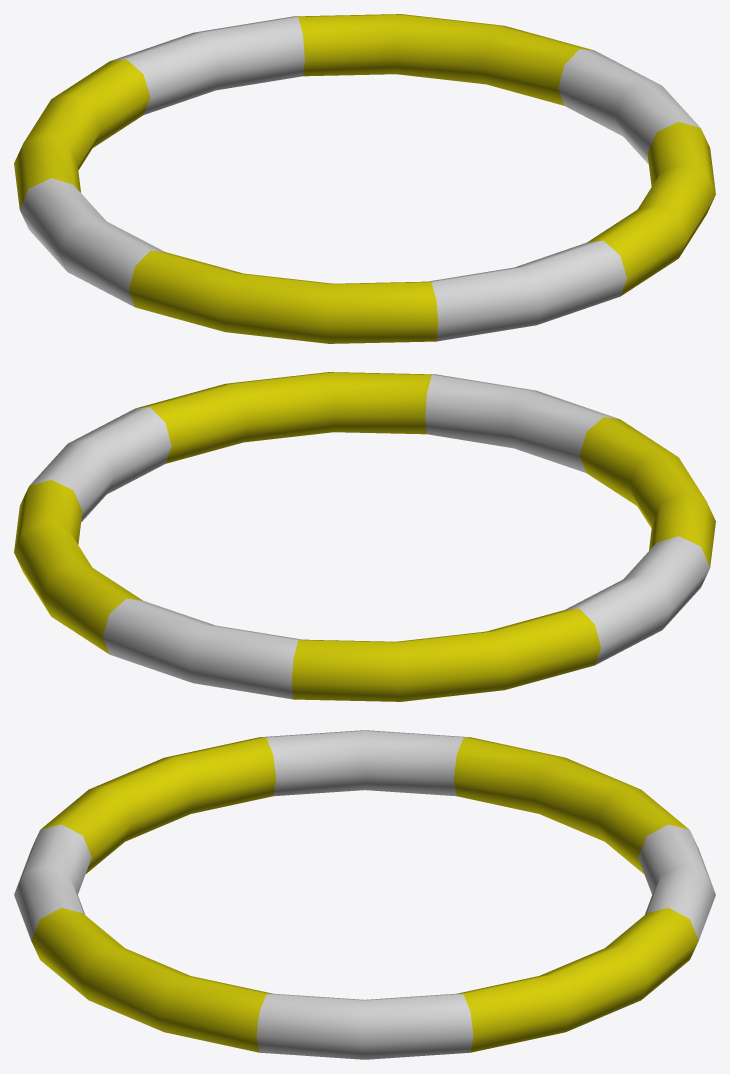
Rendered from yellowring.fbx.
The picture shows the model from 3 angles, top to bottom: view 1: azimuth 30°, elevation 25°; view 2: azimuth 150°, elevation 25°; view 3: azimuth 270°, elevation 25°; orthographic projection.
Parts seen in each view (by area): view 1: ring3; view 2: ring3; view 3: ring3.
Part boxes in pixels (bbox=[...]): ring3: bbox=[14, 14, 715, 343]; ring3: bbox=[14, 372, 715, 701]; ring3: bbox=[14, 730, 715, 1059].
Size of the model in its own units: 2.2 by 0.2 by 2.2.
